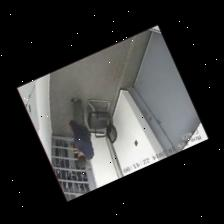person: (68, 98, 93, 166)
